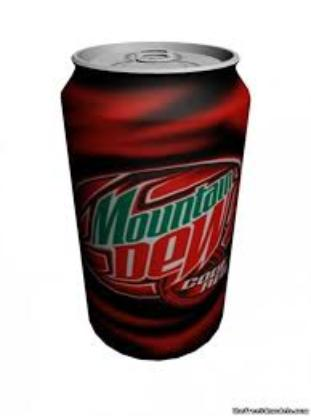Can: (59, 42, 251, 358)
